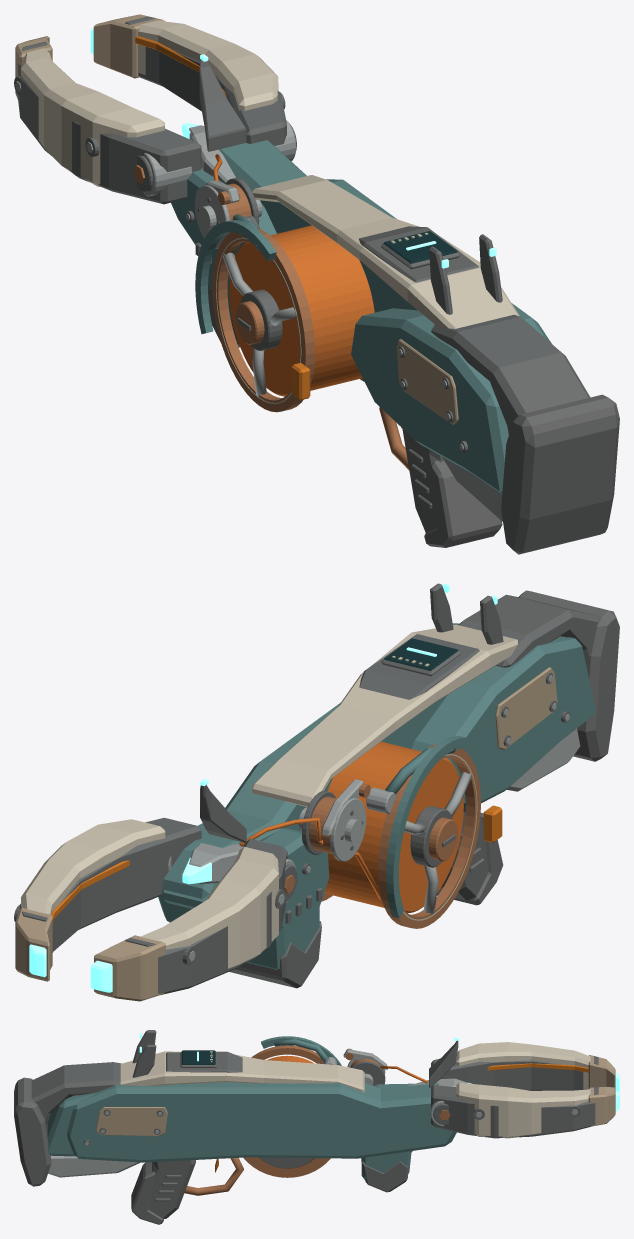
File: selvedge-world.gltf
The picture shows the model from 3 angles, top to bottom: view 1: azimuth 30°, elevation 25°; view 2: azimuth 150°, elevation 25°; view 3: azimuth 270°, elevation 25°; orthographic projection. The views are drawn at different scales.
Parts seen in each view (by area): view 1: body_World patina, bobbin_World patina, leftTine_World patina, rightTine_World patina, latch_World patina, guide_World patina, shuttle_World patina; view 2: body_World patina, bobbin_World patina, leftTine_World patina, rightTine_World patina, latch_World patina, guide_World patina, shuttle_World patina, leftTine_World phosphor; view 3: body_World patina, rightTine_World patina, leftTine_World patina, bobbin_World patina, latch_World patina, guide_World patina, cassette_World patina.
Part boxes in pixels (x1,y1,x2,y2): body_World patina: (133,59,619,554); bobbin_World patina: (212,225,374,412); leftTine_World patina: (14,36,201,204); rightTine_World patina: (93,14,286,145); latch_World patina: (195,214,310,399); guide_World patina: (195,177,259,248); shuttle_World patina: (189,125,235,183); body_World patina: (158,583,619,988); bobbin_World patina: (321,741,480,928); leftTine_World patina: (94,838,287,1001); rightTine_World patina: (14,817,201,981); latch_World patina: (366,736,502,918); guide_World patina: (301,790,366,861); shuttle_World patina: (189,841,266,883); leftTine_World phosphor: (90,960,112,992); body_World patina: (14,1030,458,1224); rightTine_World patina: (431,1082,615,1138); leftTine_World patina: (431,1042,615,1090); bobbin_World patina: (243,1045,330,1177); latch_World patina: (261,1036,341,1065); guide_World patina: (347,1056,385,1085); cassette_World patina: (259,1157,314,1168).
Size of the model in its own units: 0.1945 by 0.278 by 0.8472.
